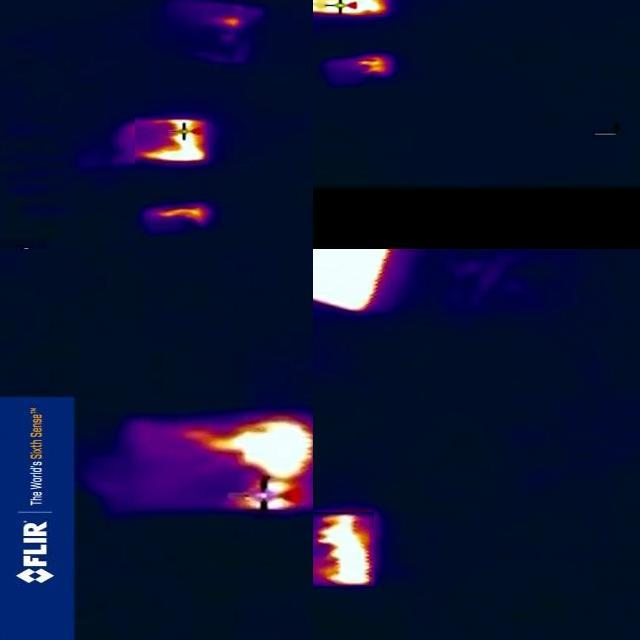fire: (198, 415, 314, 510), (314, 250, 405, 313), (314, 512, 375, 586), (136, 117, 210, 165), (150, 202, 212, 225), (314, 1, 389, 17), (352, 53, 396, 75)
